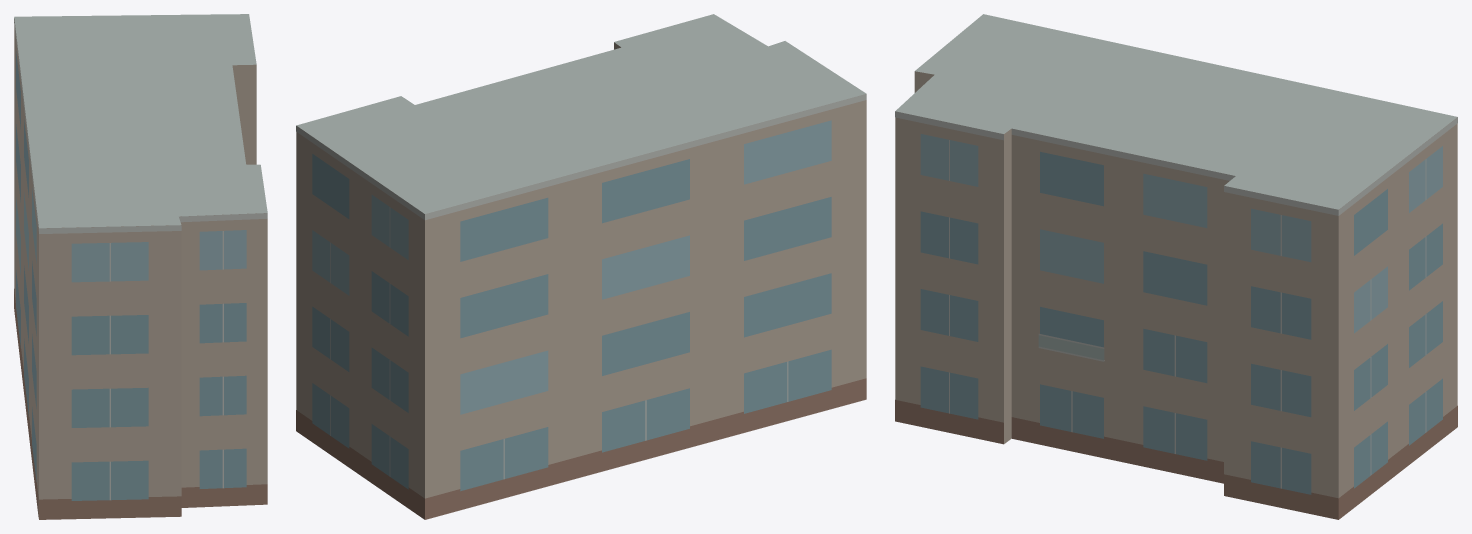
File: survey-upis-32823563.glb
3 renders of one model, left to right at view 1: azimuth 30°, elevation 25°; view 2: azimuth 150°, elevation 25°; view 3: azimuth 270°, elevation 25°, orthographic. The views are drawn at different scales.
Visible parts, largest first — view 1: survey-upis-32823563.tmp; view 2: survey-upis-32823563.tmp; view 3: survey-upis-32823563.tmp.
Part boxes in pixels (x1,y1,x2,y2): survey-upis-32823563.tmp: [14, 14, 267, 519]; survey-upis-32823563.tmp: [296, 14, 866, 519]; survey-upis-32823563.tmp: [895, 14, 1457, 519].
Size of the model in its own units: 16.52 by 12.2 by 20.07.
